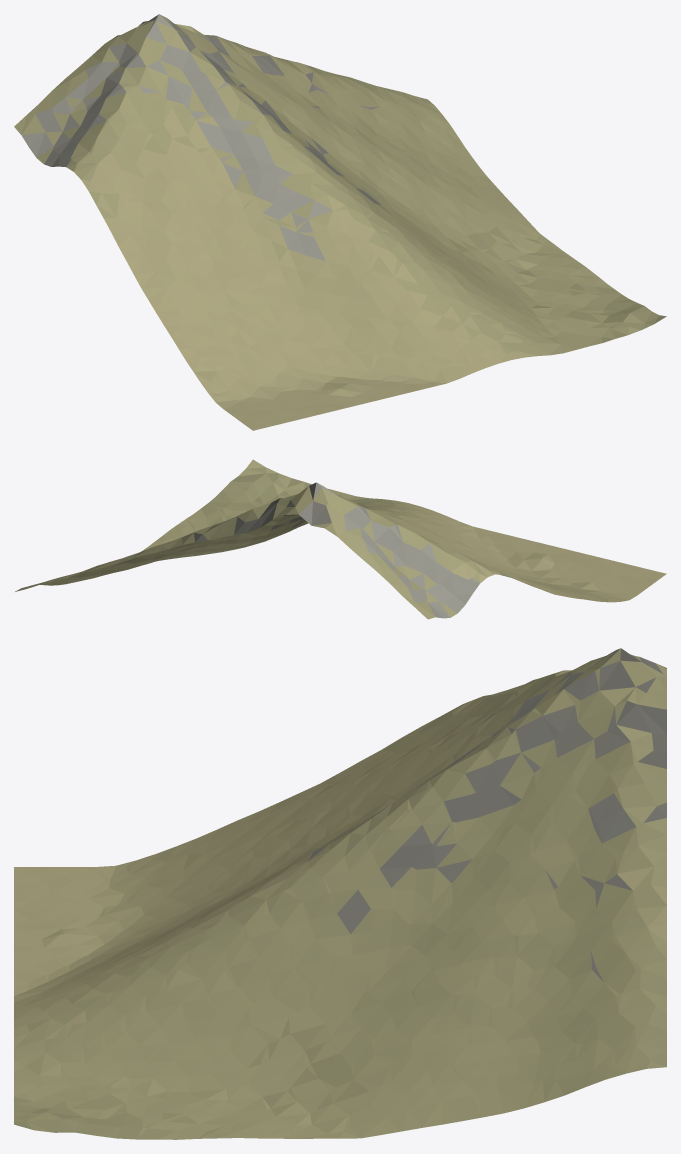
The model's file is Ground_4_2.glb.
The picture shows the model from 3 angles, top to bottom: view 1: azimuth 30°, elevation 25°; view 2: azimuth 150°, elevation 25°; view 3: azimuth 270°, elevation 25°; orthographic projection. The views are drawn at different scales.
Visible parts, largest first — view 1: Ground_4_2; view 2: Ground_4_2; view 3: Ground_4_2.
Part boxes in pixels (<box>): Ground_4_2: <box>14,14,666,430</box>; Ground_4_2: <box>15,459,666,619</box>; Ground_4_2: <box>14,648,666,1139</box>.
Size of the model in its own units: 768 by 395 by 768.
